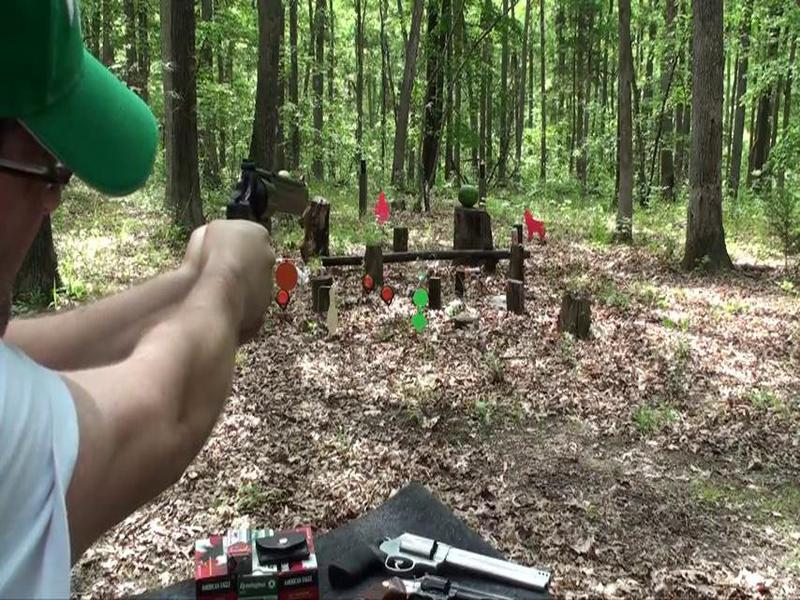Revolver: (222, 146, 316, 266)
